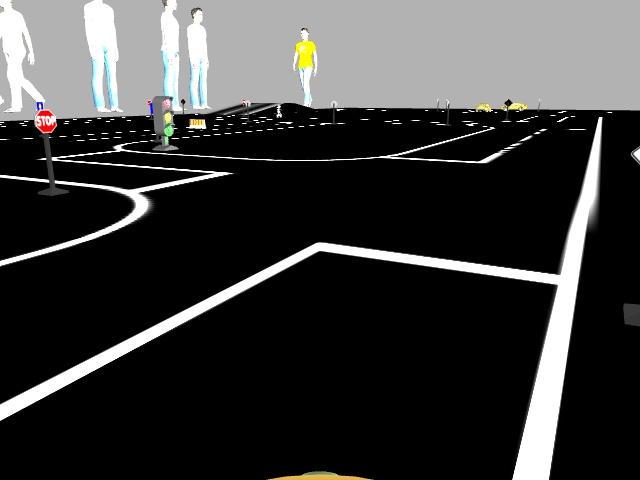ClosedRoadStand: (188, 117, 208, 129)
Stop: (33, 109, 56, 131)
TrafficLight: (150, 96, 173, 136)
